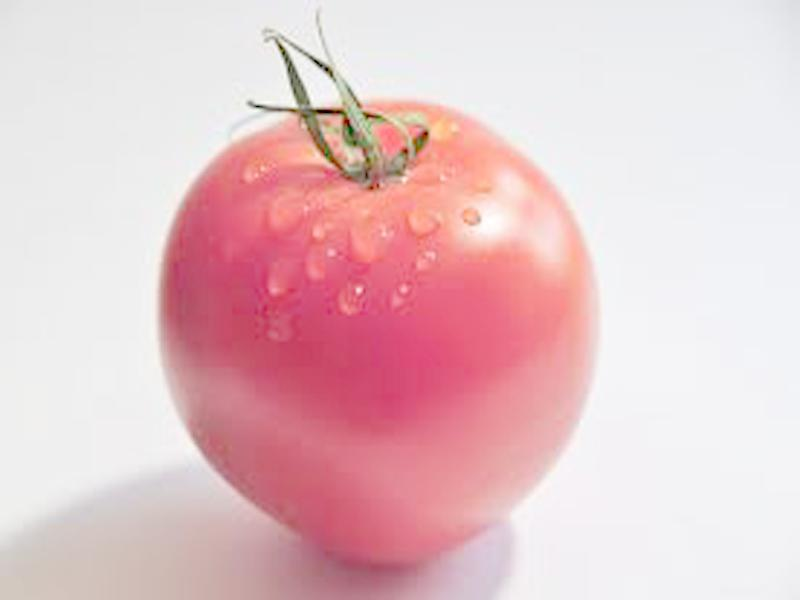Tomato: (159, 105, 600, 564)
